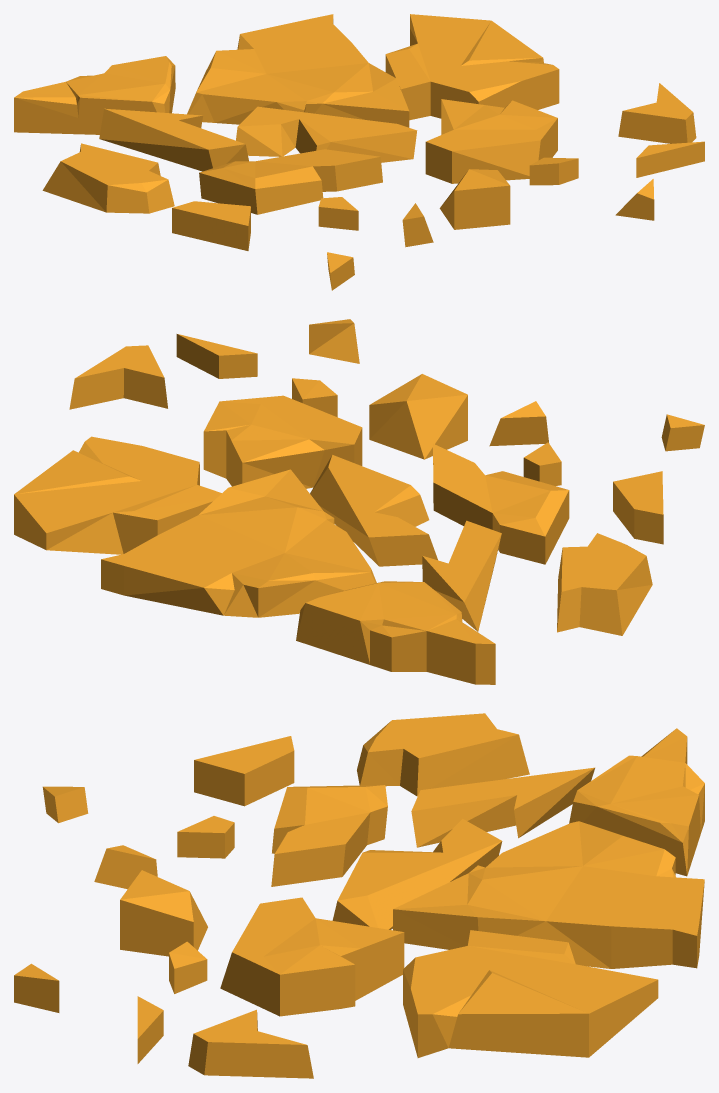
The model's file is SM_Iceberg_Shards_A.fbx.
3 renders of one model, top to bottom at view 1: azimuth 30°, elevation 25°; view 2: azimuth 150°, elevation 25°; view 3: azimuth 270°, elevation 25°, orthographic. The views are drawn at different scales.
Visible parts, largest first — view 1: iceberg-shards-a; view 2: iceberg-shards-a; view 3: iceberg-shards-a.
Boxes of the visible parts, x1,y1,x2,y2 form: iceberg-shards-a: [14, 14, 704, 290]; iceberg-shards-a: [14, 319, 704, 684]; iceberg-shards-a: [14, 713, 704, 1078].
Size of the model in its own units: 5.51 by 0.4606 by 4.73.
